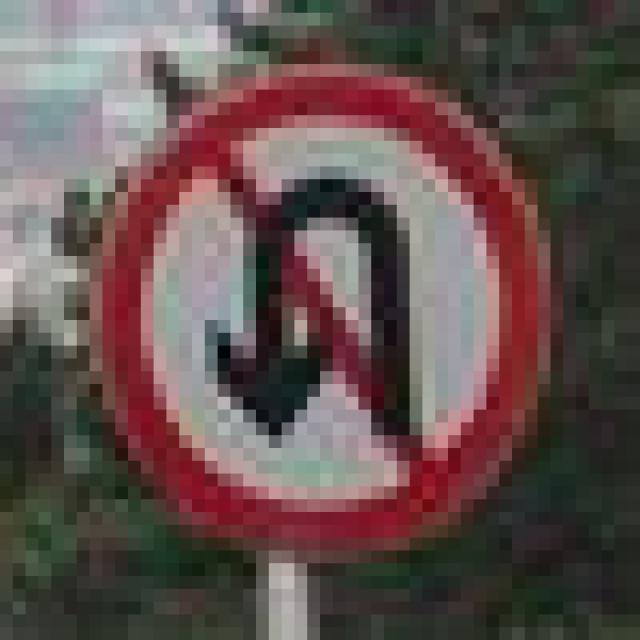u turn prohibited: (73, 62, 549, 555)
